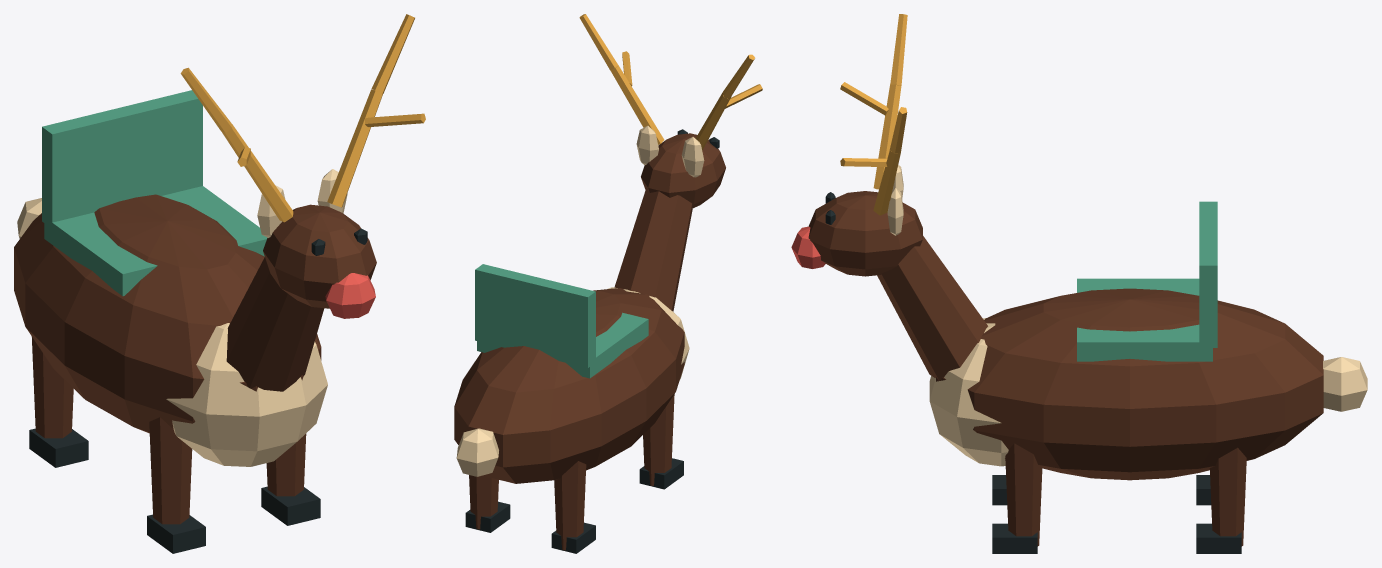
The model's file is ParkParkReindeer.obj.
3 views of the same model, side by side, from view 1: azimuth 30°, elevation 25°; view 2: azimuth 150°, elevation 25°; view 3: azimuth 270°, elevation 25° (orthographic). The views are drawn at different scales.
Visible parts, largest first — view 1: ParkParkReindeer; view 2: ParkParkReindeer; view 3: ParkParkReindeer.
Boxes of the visible parts, x1,y1,x2,y2 form: ParkParkReindeer: (14, 14, 425, 553); ParkParkReindeer: (454, 14, 762, 553); ParkParkReindeer: (791, 14, 1367, 553).
Bounding box in the file's own units: 1.55 × 3.38 × 3.81.
